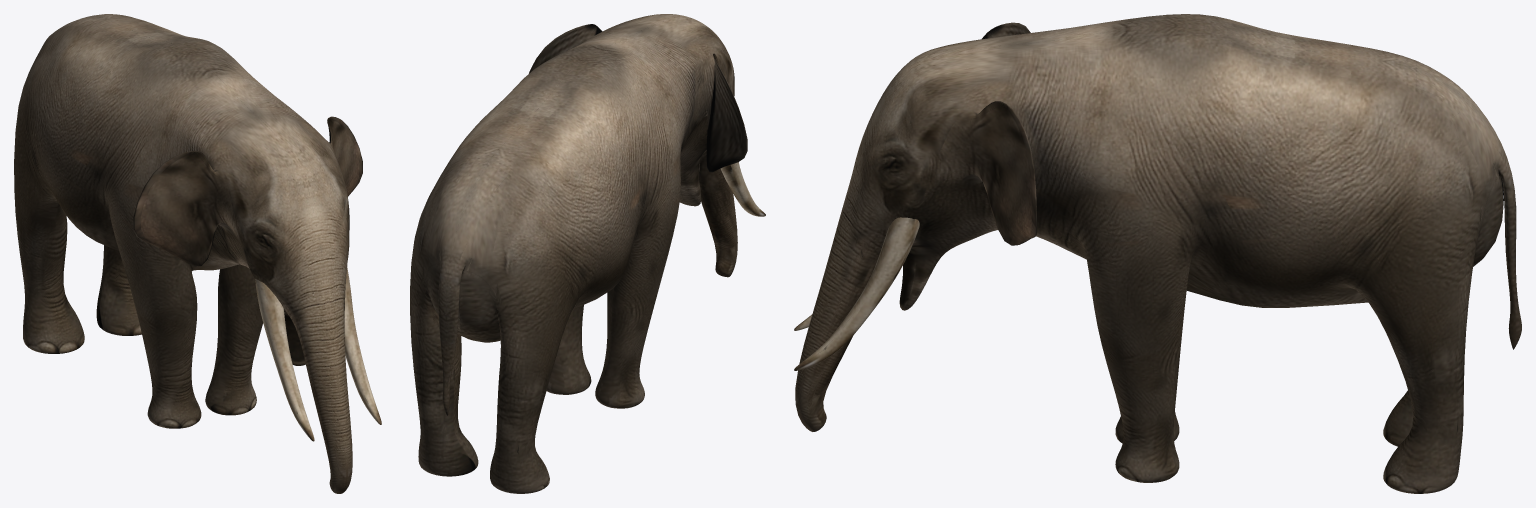
The model's file is 06 Sinomastodon sp. (ช้างไซโนมาสโตดอน).fbx.
3 renders of one model, left to right at view 1: azimuth 30°, elevation 25°; view 2: azimuth 150°, elevation 25°; view 3: azimuth 270°, elevation 25°, orthographic. The views are drawn at different scales.
Parts seen in each view (by area): view 1: Cube, Cube.001; view 2: Cube, Cube.001; view 3: Cube, Cube.001.
Part boxes in pixels (box(x1,y1,x2,y2)): Cube: box(14, 14, 362, 493); Cube.001: box(255, 267, 381, 441); Cube: box(410, 14, 747, 493); Cube.001: box(720, 162, 765, 216); Cube: box(795, 14, 1521, 493); Cube.001: box(794, 217, 919, 370).
Bounding box in the file's own units: 576 × 847 × 1293.
Materials: 1 (1 with a texture image).
